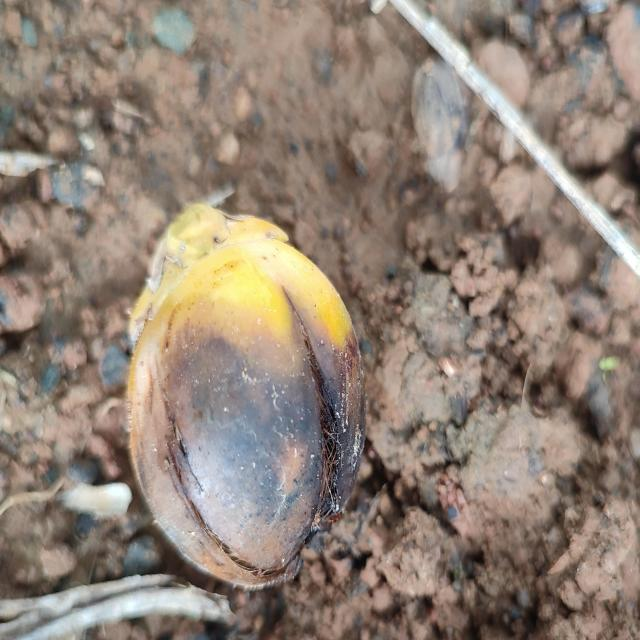damaged: (126, 204, 365, 589)
